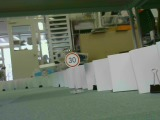speed_30: (63, 51, 81, 68)
